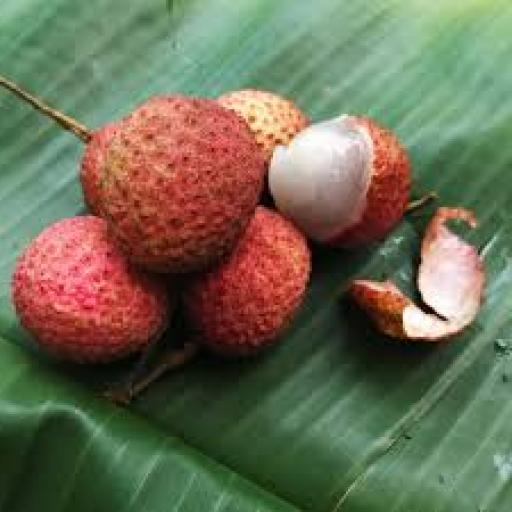lychee: (100, 96, 262, 273), (11, 217, 171, 361), (182, 208, 308, 354), (348, 208, 483, 341), (268, 117, 408, 245), (0, 78, 117, 216), (218, 89, 308, 163), (79, 123, 117, 216)
